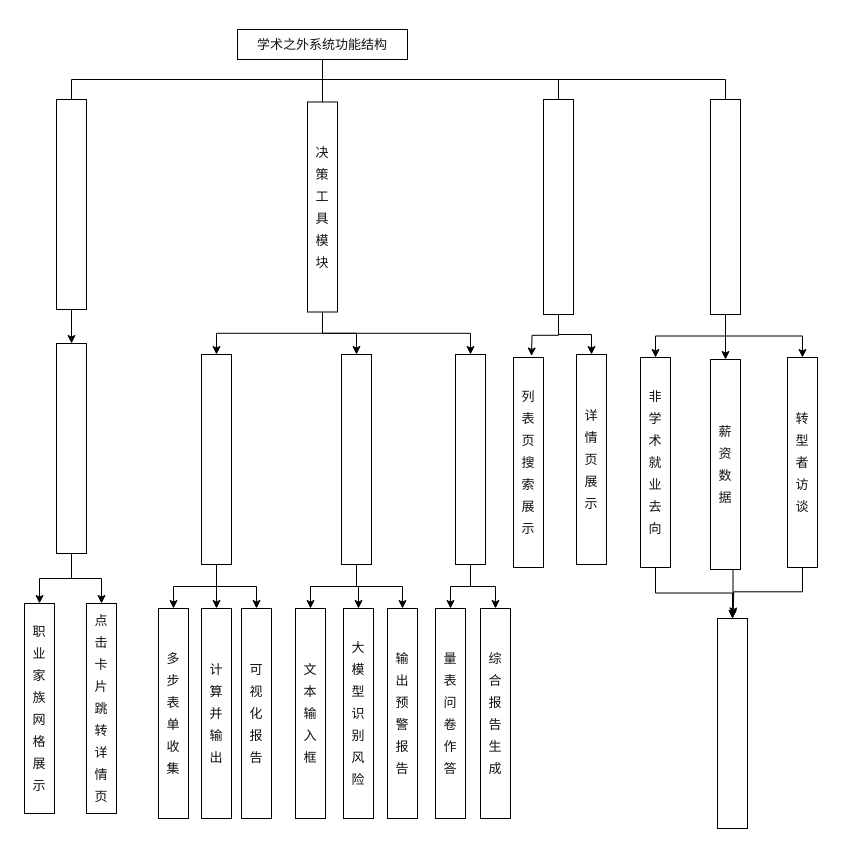
The diagram is 842 pixels wide and 846 high, and some of its shapes have lost their labels. Here are the shapes that lost their labels. From the top down, the centre of each, then its label:
(x=71, y=204): 职业探索模块
(x=558, y=206): 岗位精选模块
(x=725, y=206): 职业数据模块
(x=71, y=448): 博士职业地图
(x=216, y=459): 学术职业门槛评估
(x=356, y=459): 职位预警
(x=470, y=459): 博士非学术职业评估
(x=732, y=723): 列表展示
